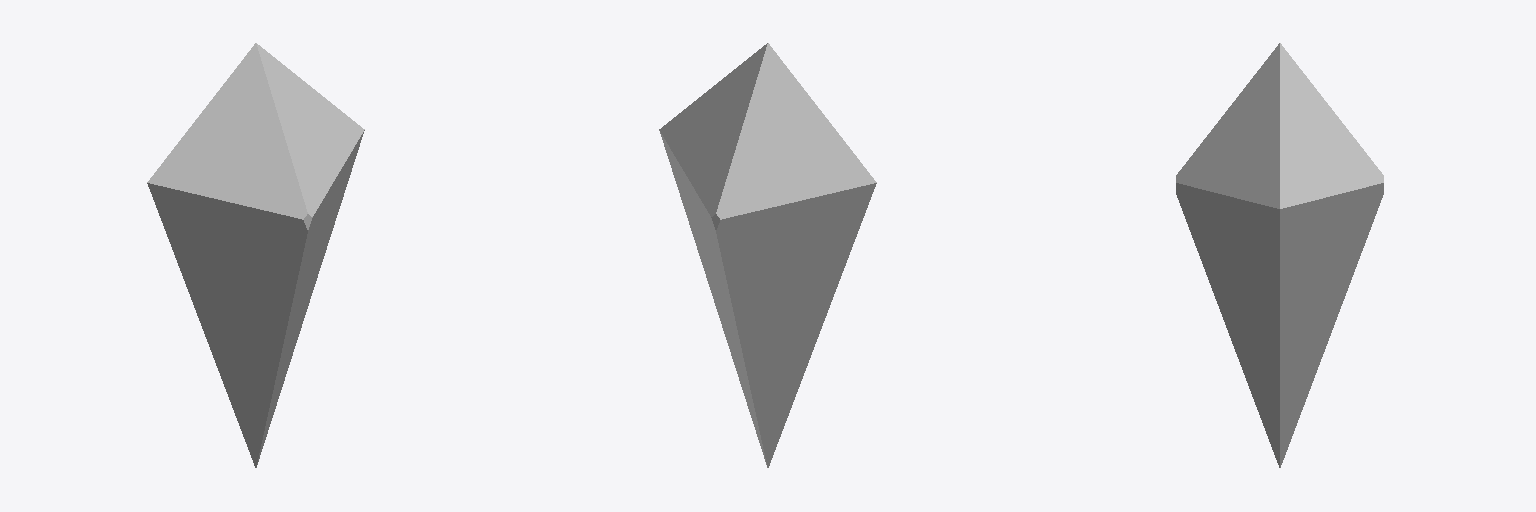
File: Body7.obj
3 views of the same model, side by side, from view 1: azimuth 30°, elevation 25°; view 2: azimuth 150°, elevation 25°; view 3: azimuth 270°, elevation 25° (orthographic).
Visible parts, largest first — view 1: Body1; view 2: Body1; view 3: Body1.
Part boxes in pixels (bbox=[...]): Body1: bbox=[147, 43, 364, 467]; Body1: bbox=[659, 43, 876, 467]; Body1: bbox=[1176, 43, 1383, 467].
Size of the model in its own units: 18.14 by 33.96 by 15.